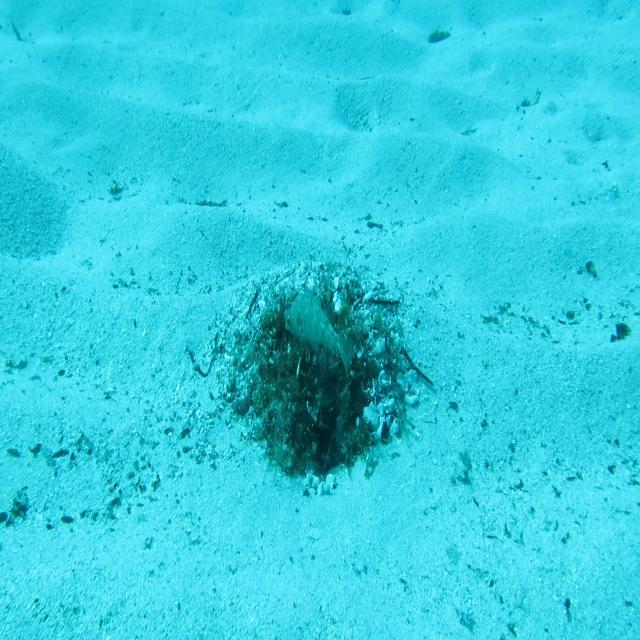NIP_CORE: (283, 289, 354, 382)
core_nest: (280, 312, 336, 357)
nest: (189, 256, 424, 509)
vegetation: (425, 28, 451, 46)
